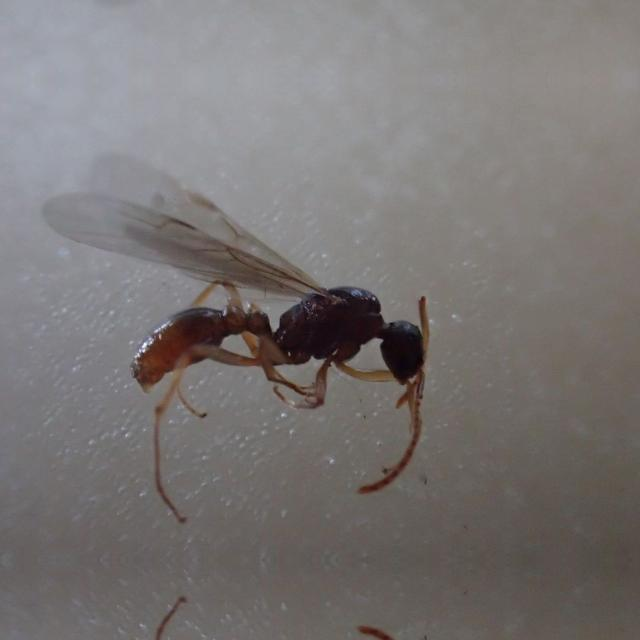Myrmica: (65, 166, 431, 490)
